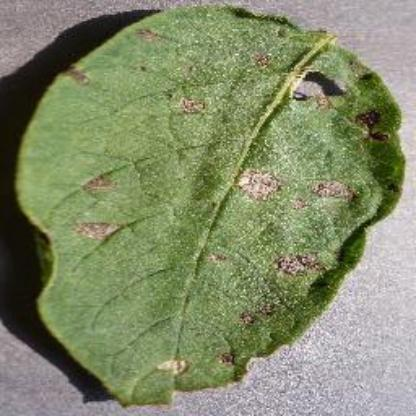Early-Blight: (0, 0, 416, 412)
